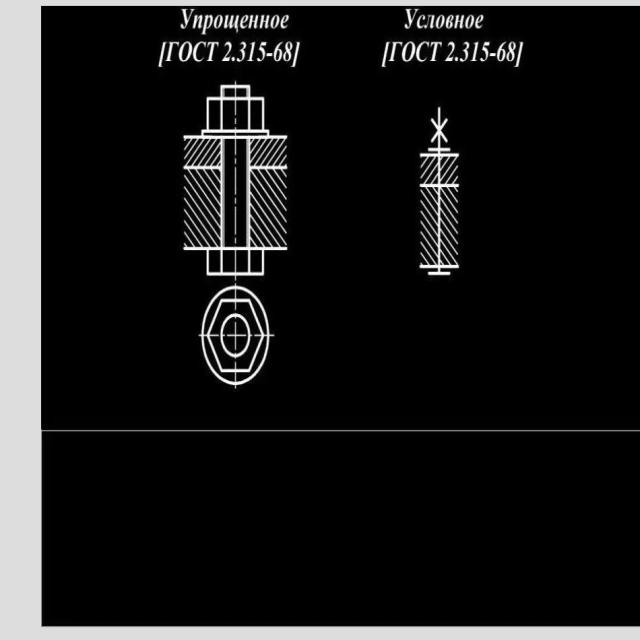numeric: (443, 40, 457, 64), (271, 40, 284, 64), (459, 39, 471, 65), (256, 37, 267, 63), (504, 39, 514, 67), (223, 41, 235, 62), (495, 40, 506, 62), (282, 40, 292, 62), (237, 39, 245, 65), (480, 39, 487, 65), (472, 41, 479, 63), (249, 42, 256, 63)
